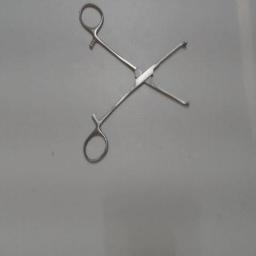Allis Tissue Forceps: (77, 1, 193, 165)
